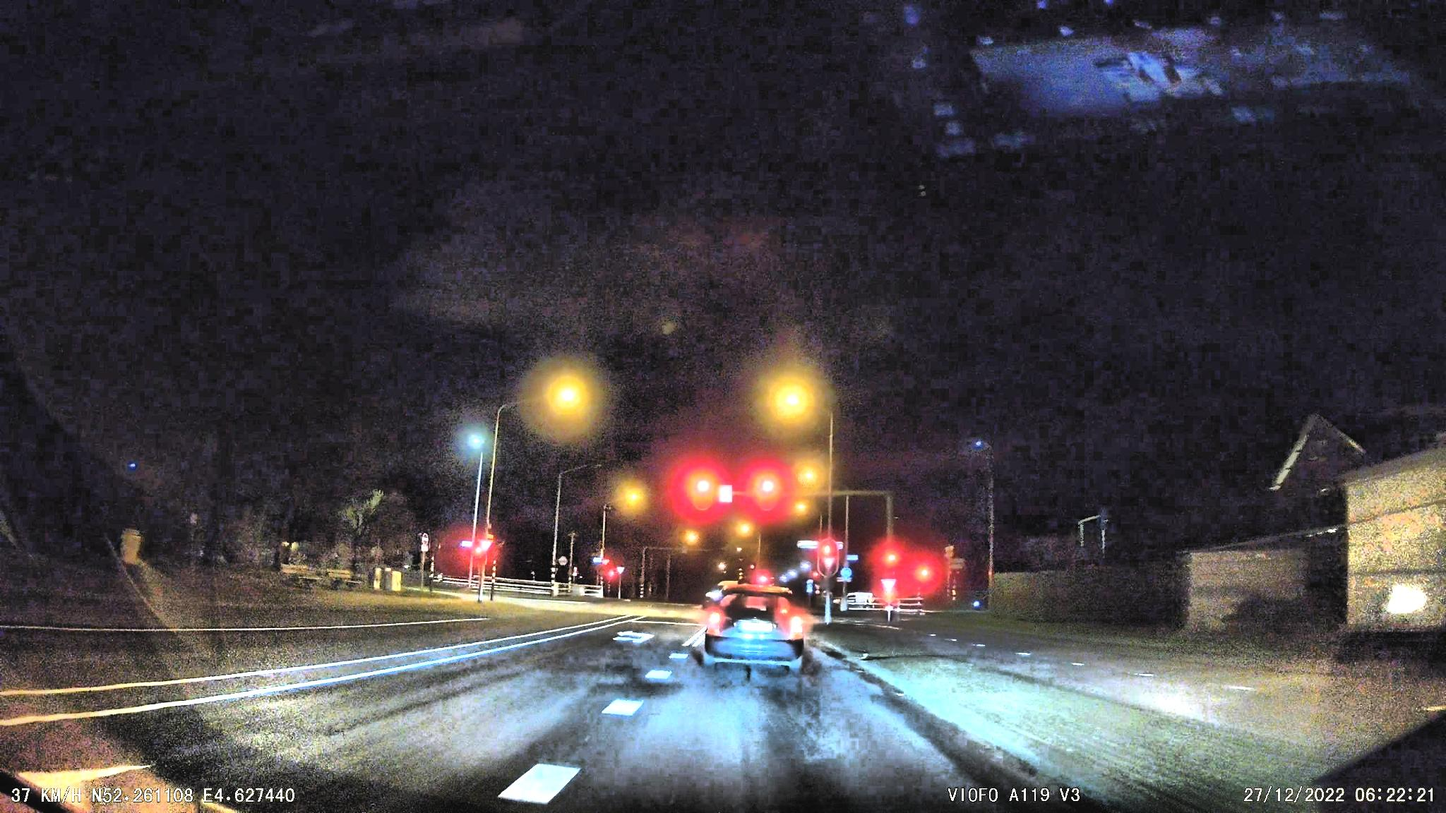Roads: (0, 610, 1021, 813)
